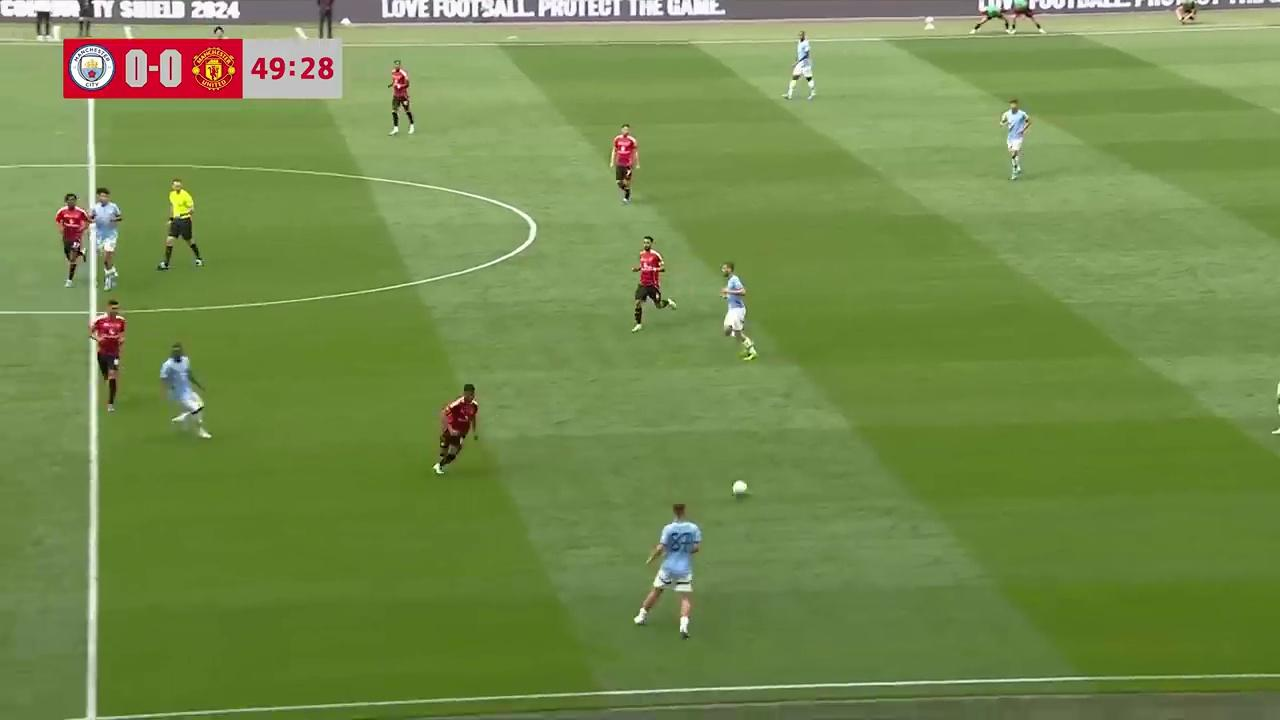ball: (731, 477, 748, 497)
player: (633, 503, 703, 634), (159, 341, 212, 439), (630, 235, 676, 331), (433, 383, 480, 476), (88, 299, 126, 413), (719, 262, 758, 361), (91, 186, 123, 284), (54, 192, 87, 287), (999, 97, 1031, 180), (783, 30, 816, 100), (610, 125, 639, 204), (386, 59, 415, 136), (1271, 366, 1280, 453)
referee: (155, 179, 204, 269)
